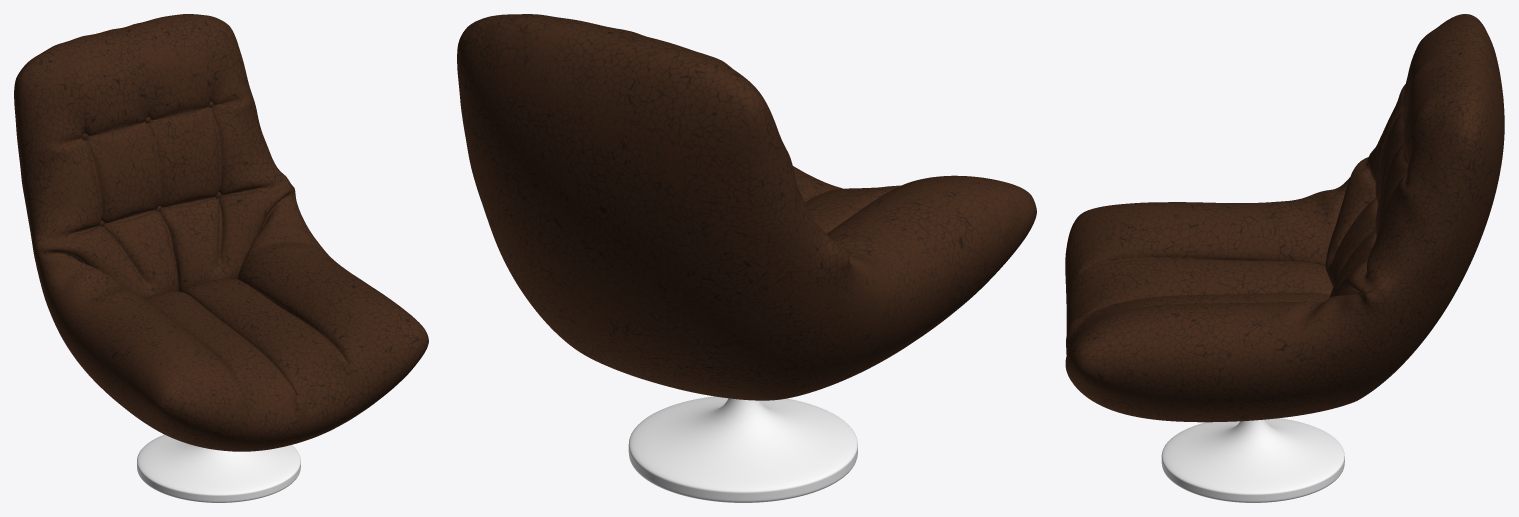
File: brown_leather_chair.glb
3 renders of one model, left to right at view 1: azimuth 30°, elevation 25°; view 2: azimuth 150°, elevation 25°; view 3: azimuth 270°, elevation 25°, orthographic. The views are drawn at different scales.
Parts seen in each view (by area): view 1: Cube.005_0, Cylinder.002_1; view 2: Cube.005_0, Cylinder.002_1; view 3: Cube.005_0, Cylinder.002_1.
Boxes of the visible parts, x1,y1,x2,y2 form: Cube.005_0: (14, 14, 428, 451); Cylinder.002_1: (137, 434, 300, 502); Cube.005_0: (457, 14, 1036, 400); Cylinder.002_1: (628, 396, 857, 502); Cube.005_0: (1065, 14, 1504, 422); Cylinder.002_1: (1161, 418, 1344, 502).
Size of the model in its own units: 2.06 by 2.68 by 2.57.
Materials: 3 (2 with a texture image).
